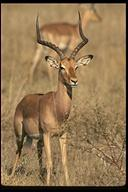antelope: (9, 8, 95, 187), (26, 4, 105, 82)
grass: (83, 72, 124, 97)
tree: (51, 100, 125, 183)
